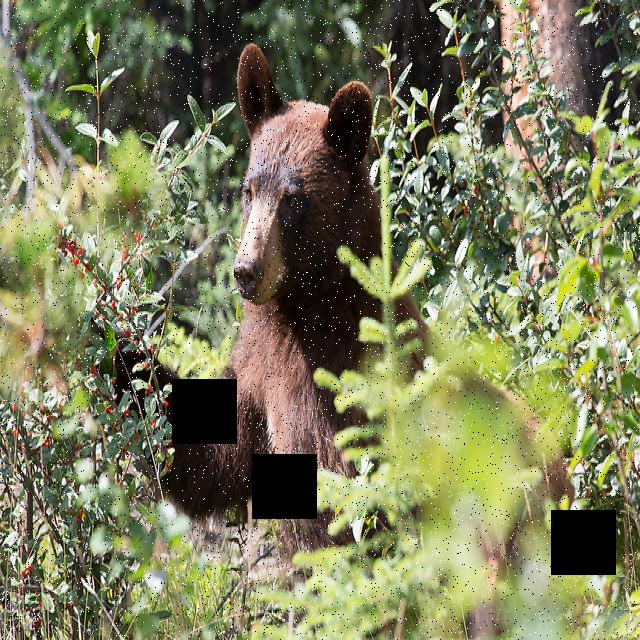Bear: (166, 34, 434, 555)
